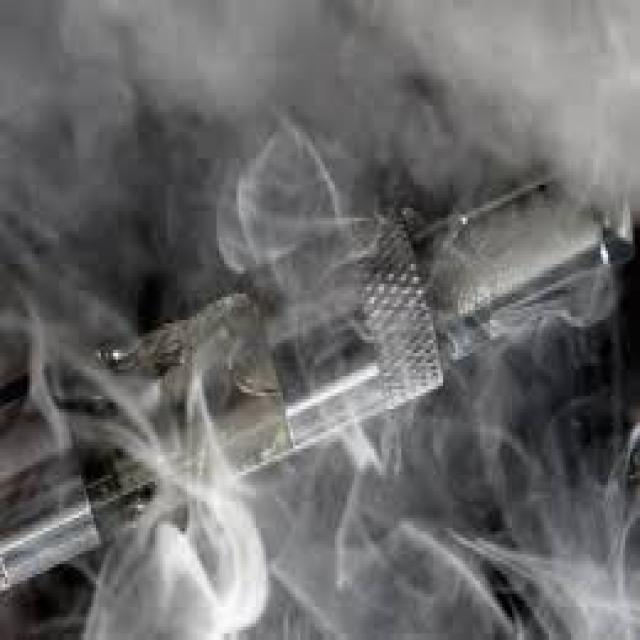Smoke: (2, 72, 639, 640)
